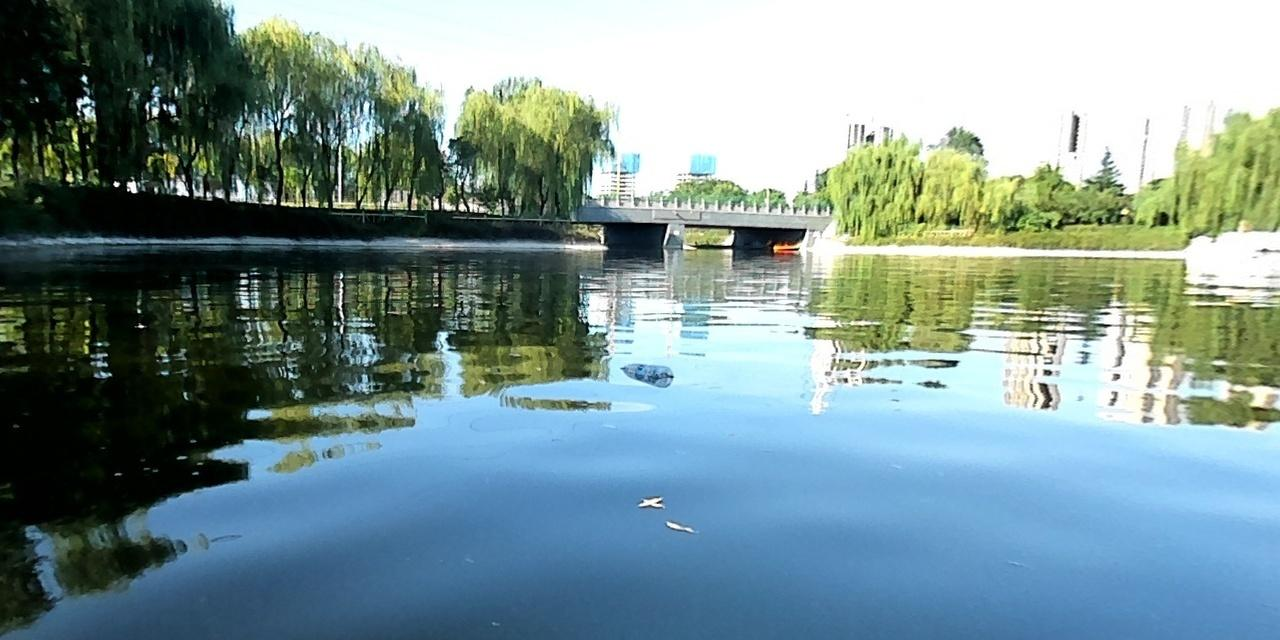bottle: (614, 354, 677, 387)
